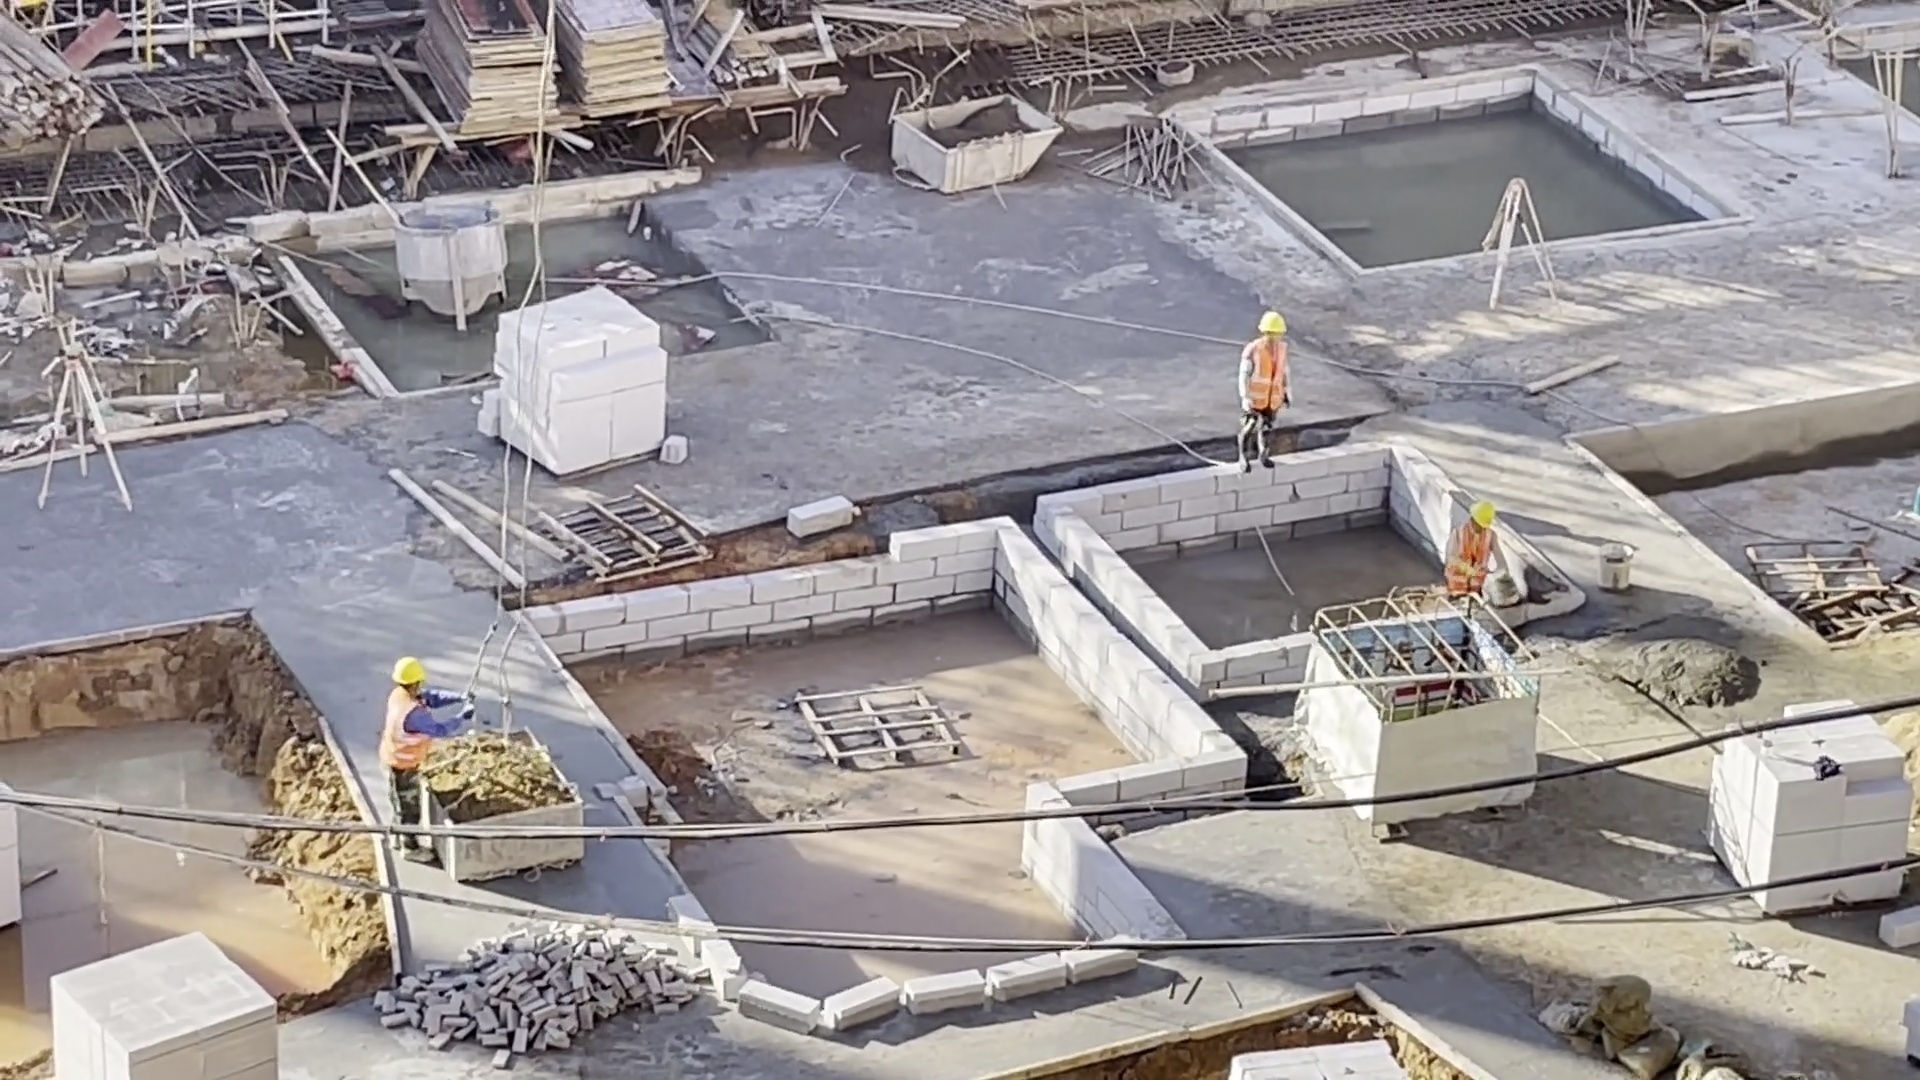board: (403, 5, 567, 135), (554, 8, 680, 126)
brick: (43, 922, 279, 1080), (487, 276, 671, 478), (1694, 738, 1916, 856), (1227, 1035, 1402, 1080)
helmet: (387, 657, 426, 684), (1467, 500, 1496, 532), (1252, 309, 1287, 334)
hopper: (891, 87, 1063, 190), (396, 202, 508, 337)
person: (377, 652, 476, 865), (1230, 309, 1298, 476), (1438, 498, 1511, 603)
vest: (381, 688, 432, 771), (1243, 335, 1289, 412), (1448, 524, 1491, 593)
wood: (6, 4, 104, 152)
